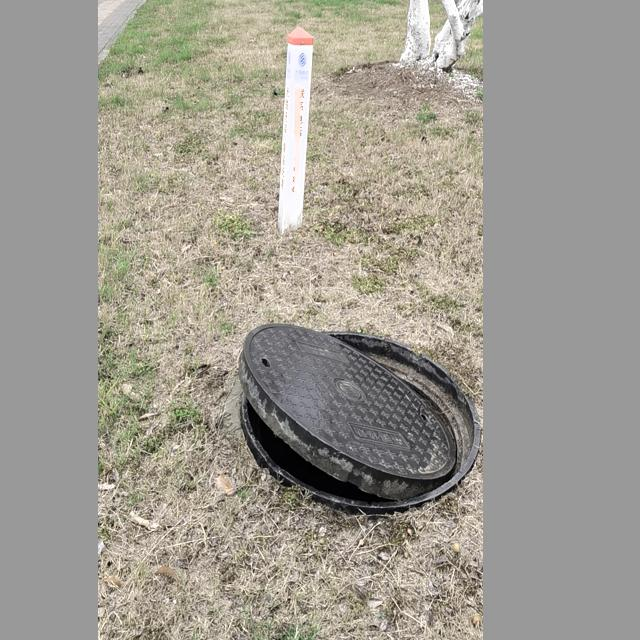uncovered: (236, 321, 481, 515)
